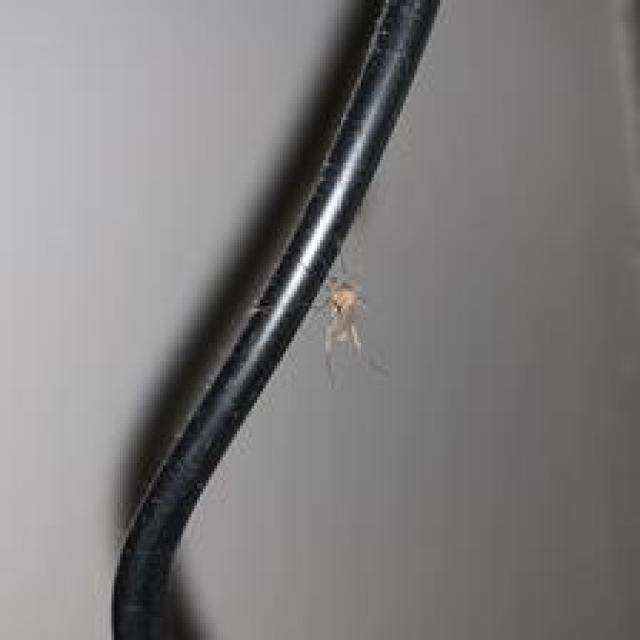Culex: (314, 254, 389, 389)
